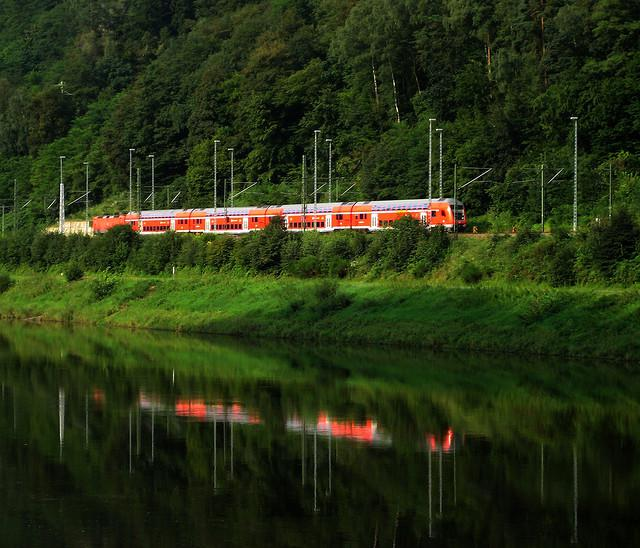Train: (95, 198, 469, 238)
